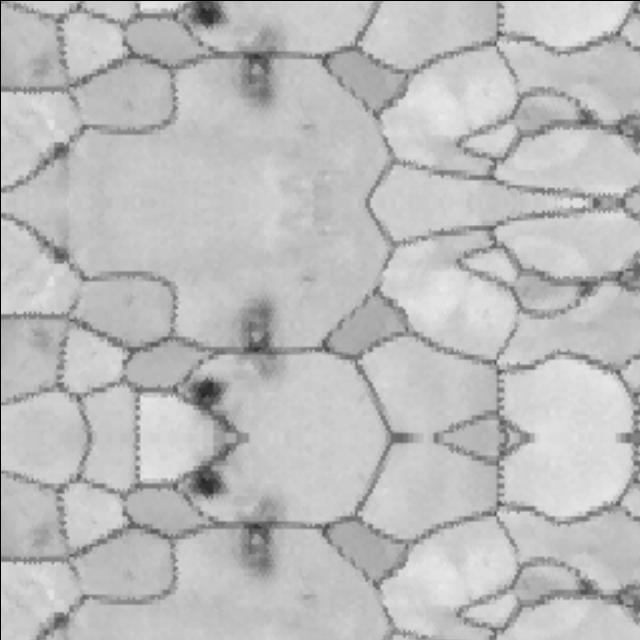good_void: (225, 30, 281, 113), (225, 293, 281, 375), (225, 501, 281, 583), (188, 372, 236, 416), (188, 460, 236, 504), (188, 0, 236, 33), (30, 324, 55, 357), (30, 519, 55, 552), (46, 241, 71, 273), (46, 603, 71, 635), (30, 49, 55, 81), (46, 133, 71, 164), (295, 274, 318, 286), (295, 590, 318, 602), (295, 120, 318, 131)
